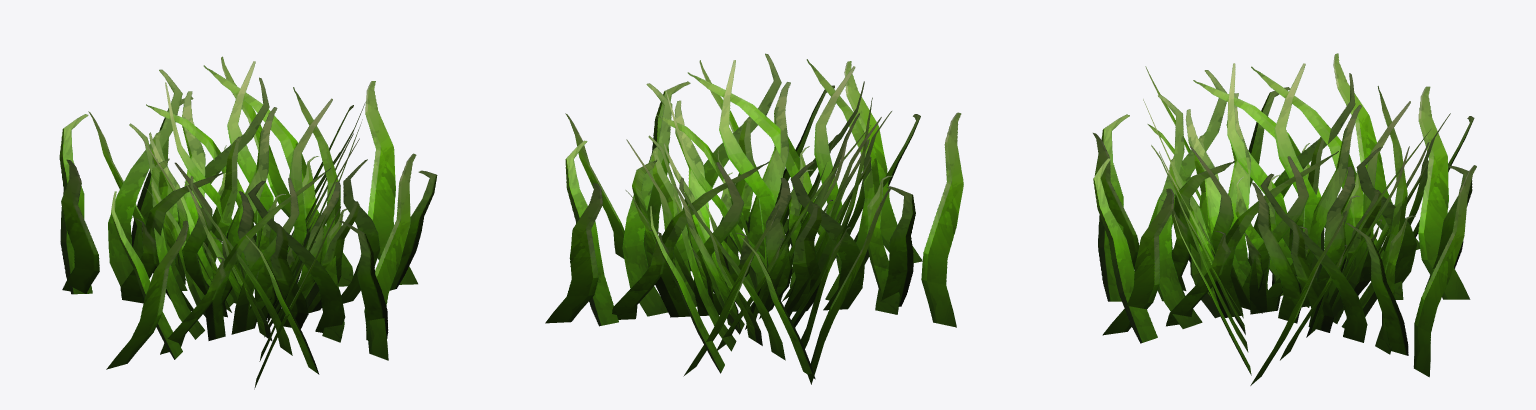
Rendered from grass.fbx.
3 views of the same model, side by side, from view 1: azimuth 30°, elevation 25°; view 2: azimuth 150°, elevation 25°; view 3: azimuth 270°, elevation 25° (orthographic). The views are drawn at different scales.
Parts seen in each view (by area): view 1: HoB-grass-texture.197; view 2: HoB-grass-texture.197; view 3: HoB-grass-texture.197.
Part boxes in pixels (x1,y1,x2,y2): HoB-grass-texture.197: [59, 56, 437, 389]; HoB-grass-texture.197: [545, 53, 963, 384]; HoB-grass-texture.197: [1093, 53, 1476, 385].
Size of the model in its own units: 257 by 119 by 261.
Materials: 1 (1 with a texture image).
